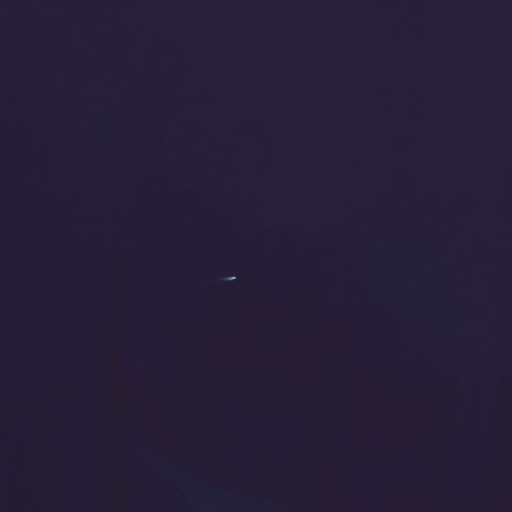ship: (225, 274, 239, 283)
